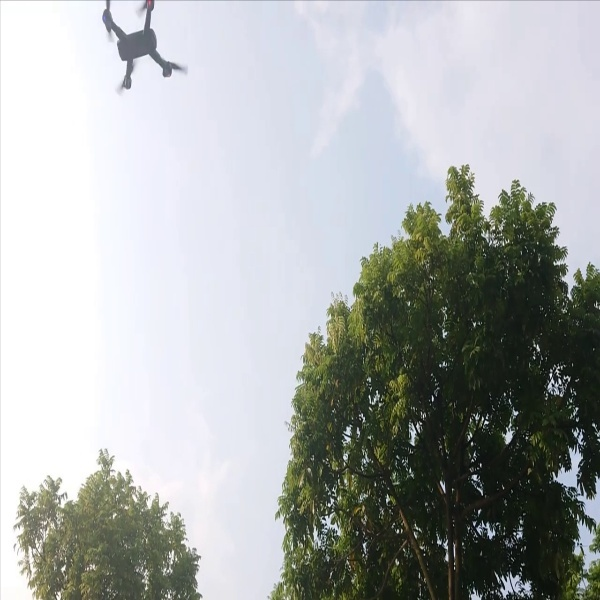drone: (67, 1, 197, 101)
